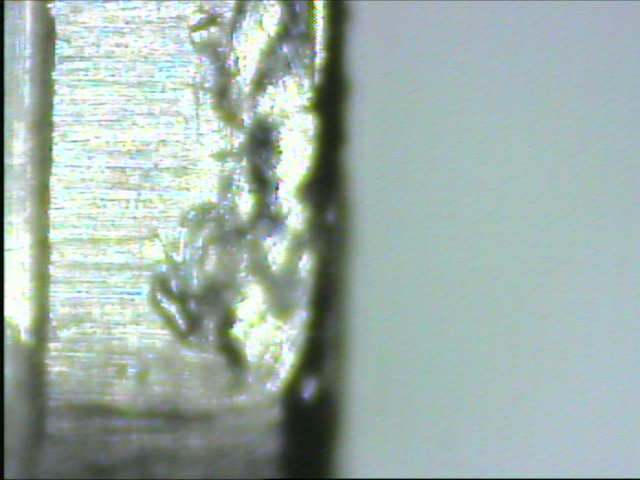edge: (278, 1, 359, 475)
